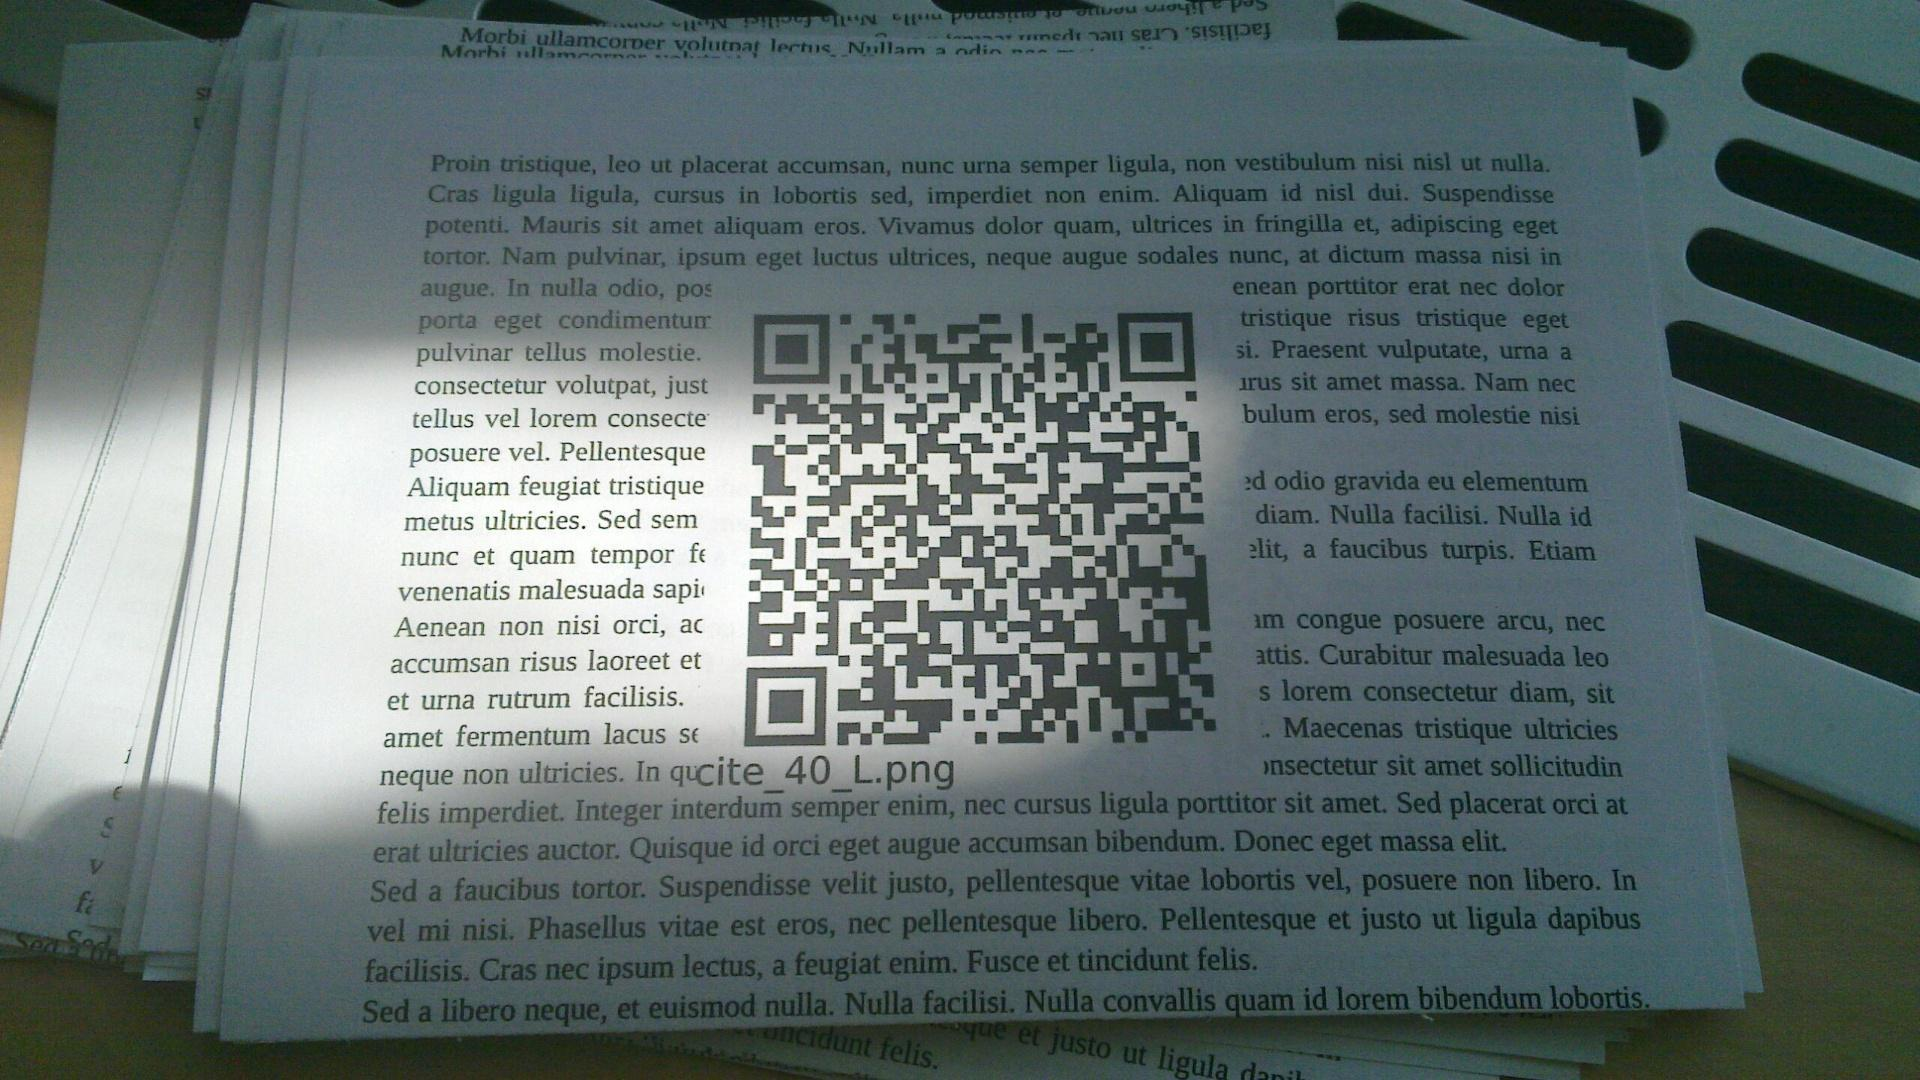Finder pattern: (740, 658, 833, 750), (1106, 305, 1201, 386), (745, 309, 836, 390)
